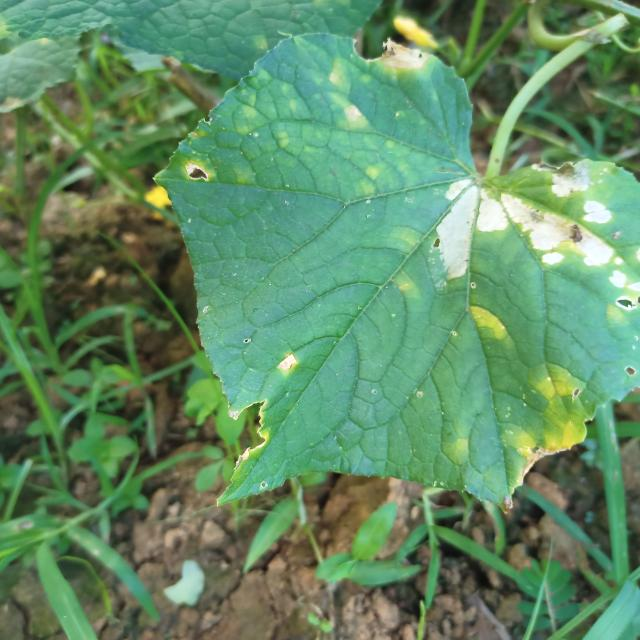disease_cucumber: (427, 158, 640, 296), (503, 362, 588, 460), (324, 62, 374, 136), (466, 303, 517, 345)
